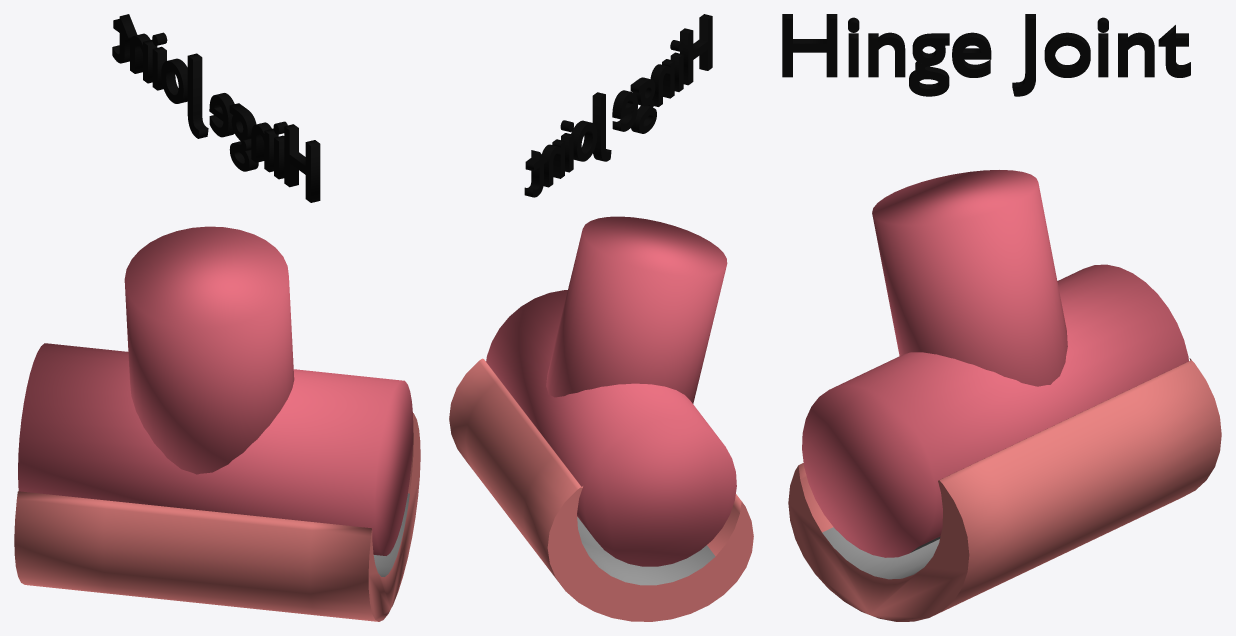
File: Hinge Joint.gltf
3 renders of one model, left to right at view 1: azimuth 30°, elevation 25°; view 2: azimuth 150°, elevation 25°; view 3: azimuth 270°, elevation 25°, orthographic. The views are drawn at different scales.
Parts seen in each view (by area): view 1: Cylinder.001, Cylinder.002, Text; view 2: Cylinder.001, Cylinder.002, Text; view 3: Cylinder.001, Cylinder.002, Text.
Part boxes in pixels (x1,y1,x2,y2): Cylinder.001: (18, 226, 413, 555); Cylinder.002: (14, 413, 420, 621); Text: (112, 14, 320, 202); Cylinder.001: (486, 216, 736, 566); Cylinder.002: (449, 358, 753, 621); Text: (524, 14, 712, 197); Cylinder.001: (802, 170, 1188, 557); Cylinder.002: (788, 358, 1221, 621); Text: (782, 14, 1190, 96).
Bounding box in the file's own units: 1.62 × 2.19 × 1.61.
